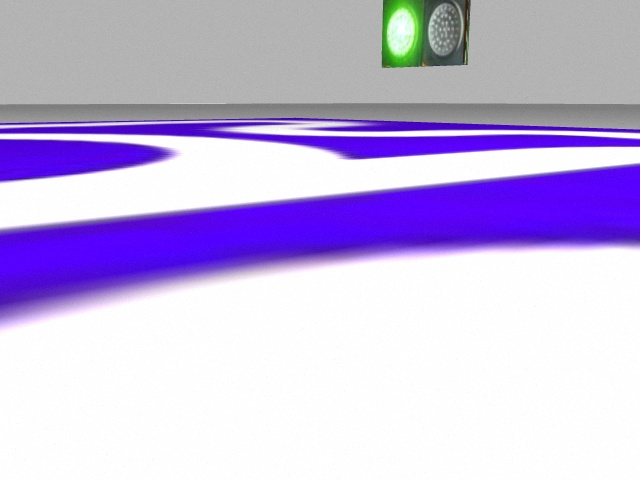green: (382, 1, 424, 67)
